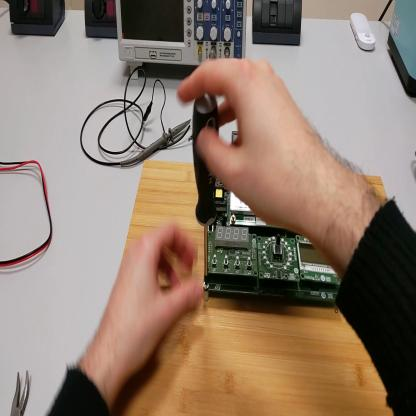hand: (177, 57, 322, 228), (104, 221, 203, 378)
low voltage board: (206, 132, 341, 309)
oscilloscope: (116, 1, 248, 78)
oscilloscope probe tip: (120, 114, 192, 167)
pliers: (9, 372, 32, 414)
screwdriver-: (195, 91, 222, 286)
socket: (11, 3, 68, 37), (86, 1, 119, 43)
welder station: (389, 2, 415, 100)
working area: (106, 161, 390, 416)
